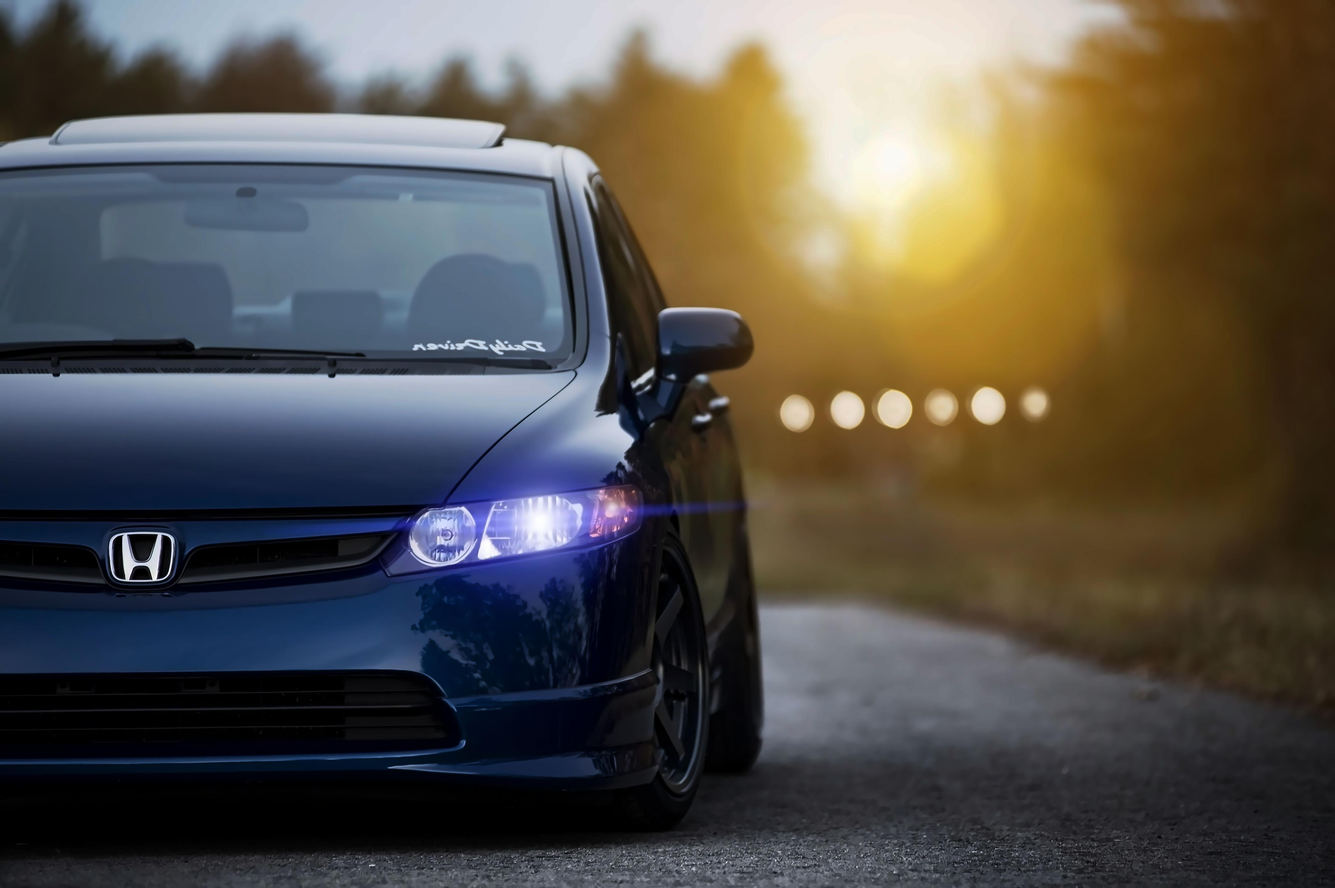Car hood: (0, 367, 587, 514)
Fender - -F-L-: (451, 366, 708, 734)
Front bumper: (0, 544, 682, 804)
Headlight - -L-: (373, 475, 657, 585)
Side mirror - -L-: (646, 289, 767, 389)
